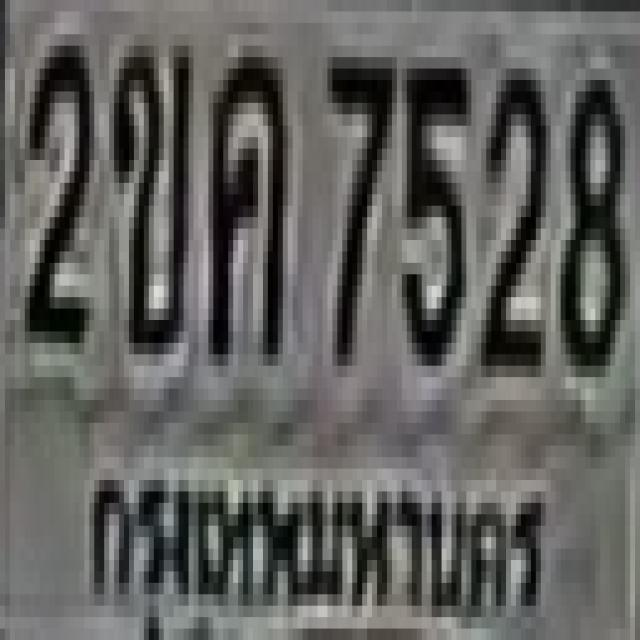2: (476, 57, 546, 366), (20, 35, 89, 332)
5: (397, 57, 466, 354)
7: (322, 46, 392, 354)
8: (556, 68, 620, 366)
A02: (109, 34, 189, 343)
A04: (206, 46, 285, 354)
BKK: (73, 435, 548, 640)
